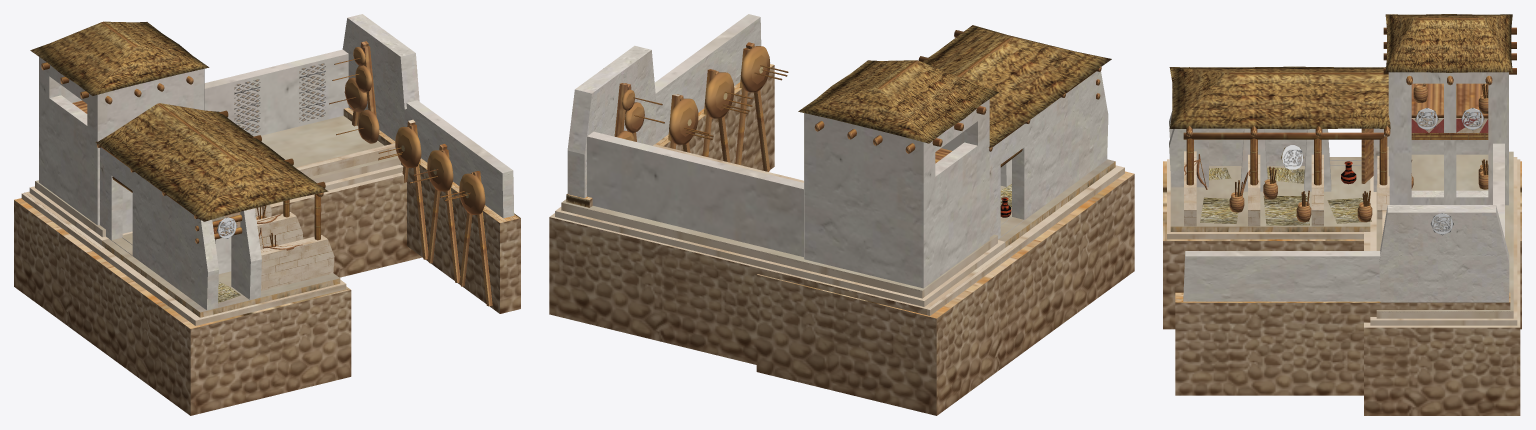
Rendered from maya_range.dae.
3 views of the same model, side by side, from view 1: azimuth 30°, elevation 25°; view 2: azimuth 150°, elevation 25°; view 3: azimuth 270°, elevation 25° (orthographic). The views are drawn at different scales.
Parts seen in each view (by area): view 1: range; view 2: range; view 3: range.
Boxes of the visible parts, box(x1,y1,x2,y2) form: range: box(14, 14, 520, 415); range: box(549, 14, 1134, 415); range: box(1163, 14, 1521, 415).
Size of the model in its own units: 26.65 by 23.51 by 19.19.
